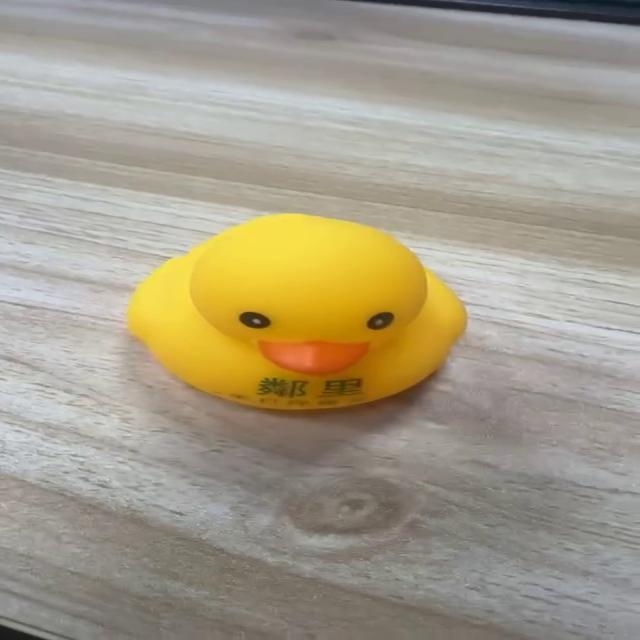yellow_duck: (125, 212, 468, 412)
